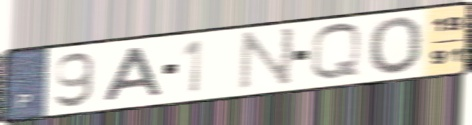1: (179, 37, 205, 95)
9: (53, 50, 97, 110)
A: (100, 44, 167, 104)
N: (234, 24, 299, 92)
O: (366, 14, 427, 78)
Q: (307, 21, 365, 84)
